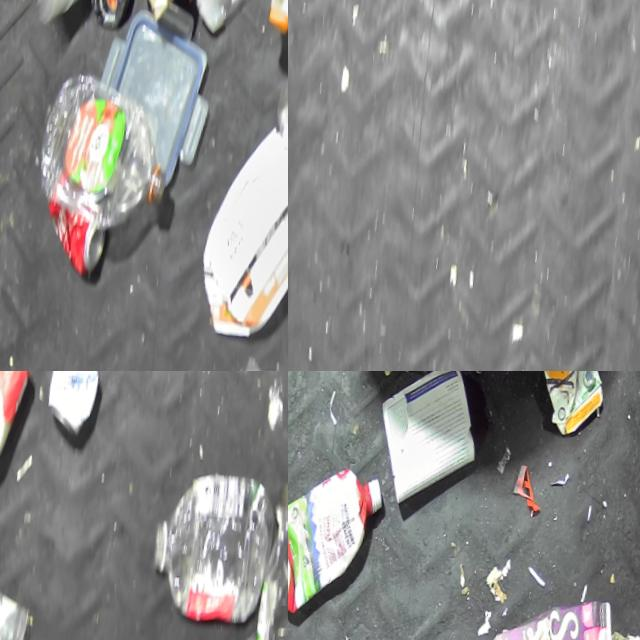can: (35, 191, 112, 282), (34, 371, 108, 451)
non_white_jug: (288, 458, 389, 626), (464, 589, 622, 640), (524, 371, 614, 448)
plastic_bottle: (26, 63, 182, 238), (131, 462, 280, 636), (237, 472, 288, 640), (184, 0, 283, 46)
